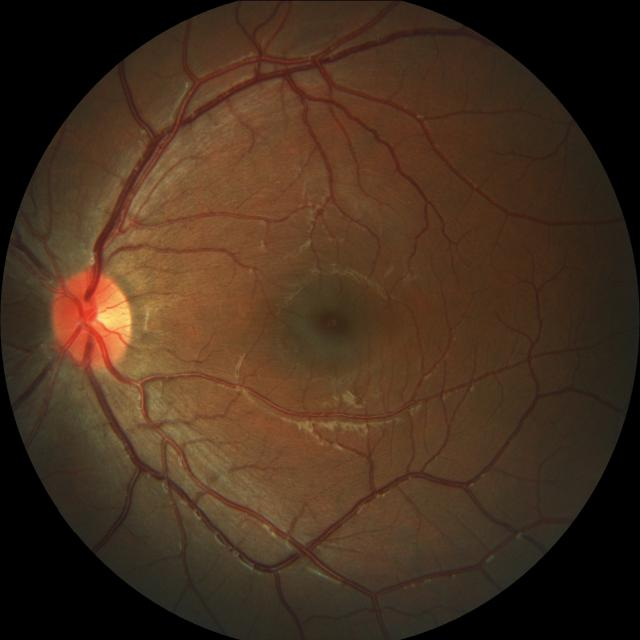OC: (72, 288, 117, 339)
OD: (53, 271, 133, 366)
